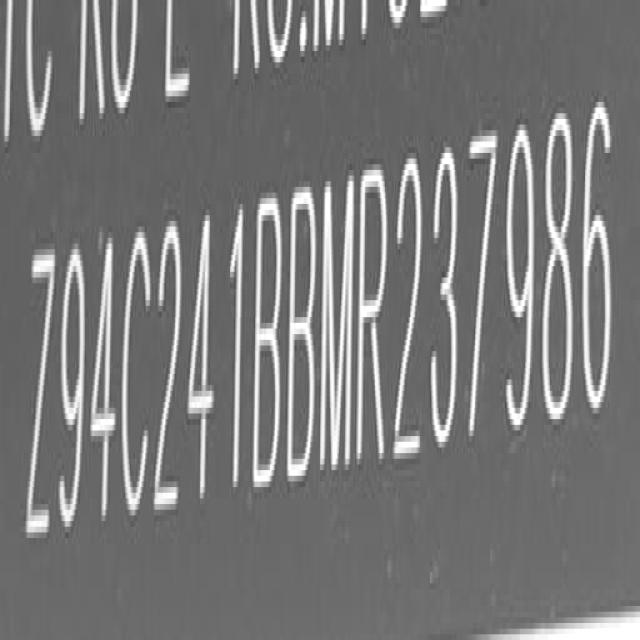1: (224, 202, 248, 504)
2: (156, 216, 190, 522), (395, 158, 427, 467)
3: (429, 146, 460, 459)
4: (190, 210, 220, 518), (90, 234, 119, 534)
6: (584, 96, 618, 416)
7: (464, 121, 498, 447)
8: (544, 110, 577, 424)
9: (503, 120, 538, 437), (57, 246, 88, 544)
B: (253, 192, 286, 494), (288, 184, 320, 492)
C: (122, 228, 158, 532)
M: (318, 175, 356, 482)
R: (357, 168, 390, 474)
Z: (24, 252, 56, 560)
